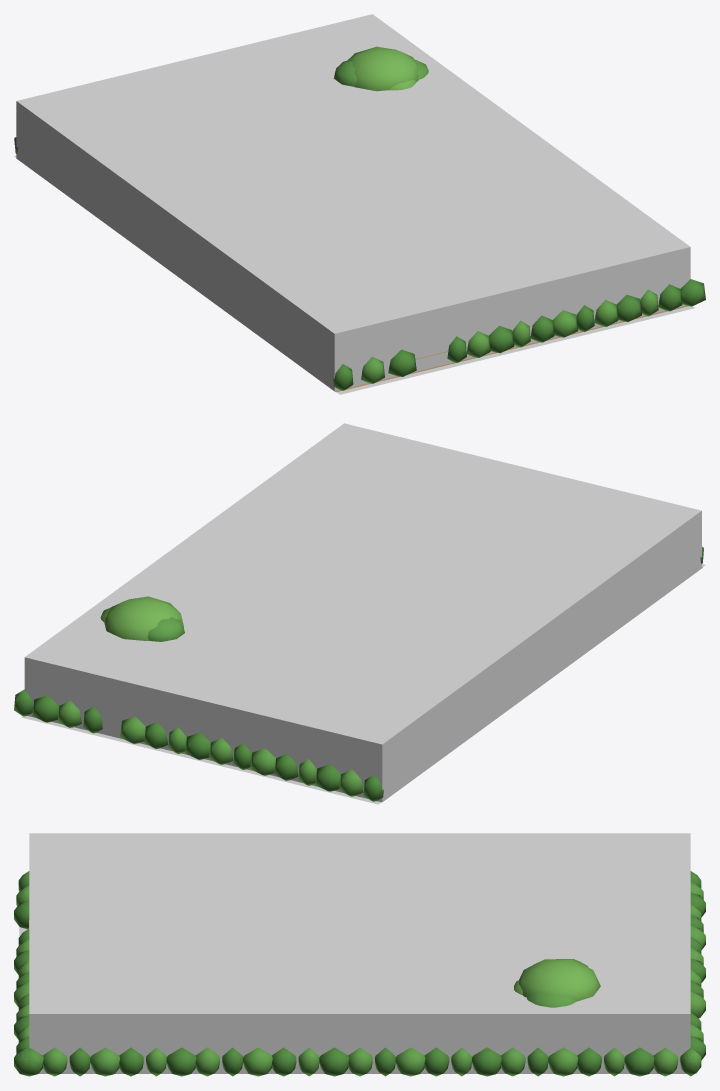
Rendered from zone_field.glb.
3 views of the same model, one above another, from view 1: azimuth 30°, elevation 25°; view 2: azimuth 150°, elevation 25°; view 3: azimuth 270°, elevation 25° (orthographic). The views are drawn at different scales.
Parts seen in each view (by area): view 1: ZONE_field, BUSH_south_e, TREE_field_lone, BUSH_south_w, FLOOR_field; view 2: ZONE_field, BUSH_north_w, TREE_field_lone, BUSH_north_e, FLOOR_field; view 3: ZONE_field, BUSH_east, TREE_field_lone, BUSH_south_e, BUSH_north_w, BUSH_north_e, BUSH_south_w.
Boxes of the visible parts, x1,y1,x2,y2 form: ZONE_field: (16, 14, 690, 391); BUSH_south_e: (447, 284, 691, 362); TREE_field_lone: (333, 46, 428, 91); BUSH_south_w: (333, 349, 416, 390); FLOOR_field: (14, 155, 694, 394); ZONE_field: (24, 423, 701, 802); BUSH_north_w: (120, 716, 383, 801); TREE_field_lone: (100, 596, 184, 641); BUSH_north_e: (15, 690, 102, 733); FLOOR_field: (21, 564, 705, 804); ZONE_field: (29, 833, 690, 1073); BUSH_east: (14, 1047, 698, 1076); TREE_field_lone: (514, 959, 600, 1007); BUSH_south_e: (14, 929, 43, 1072); BUSH_north_w: (690, 871, 705, 1018); BUSH_north_e: (682, 1012, 705, 1071); BUSH_south_w: (14, 871, 29, 928).
Size of what is drawn, in the model's own units: 26.88 by 5.69 by 41.84.
